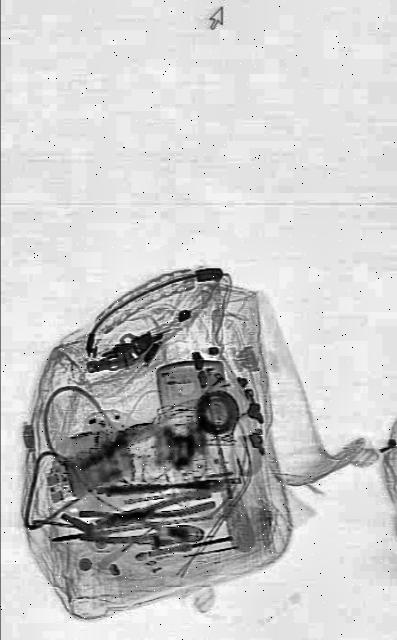Pliers: (95, 485, 216, 533), (80, 508, 204, 550)
